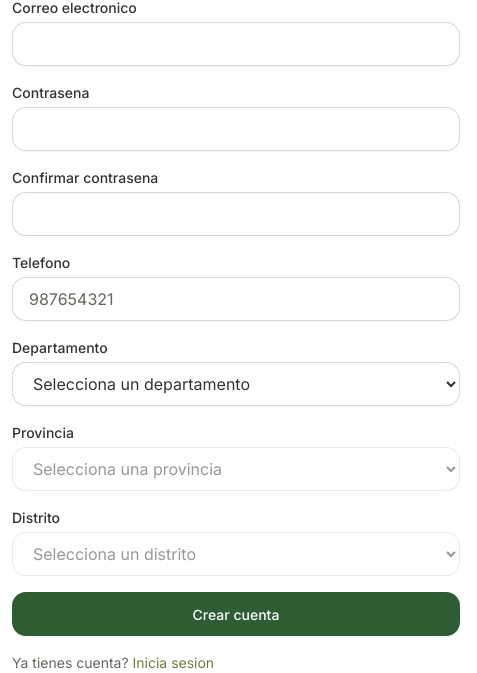
Test case: RegisterForm › muestra errores de validacion con el formulario vacio
The image size is (477, 673).
(page scrolled)
Step 1. Click the button "Crear cuenta" → point(236, 614), box top-left (12, 592), bottom-right (460, 636)
(page scrolled)
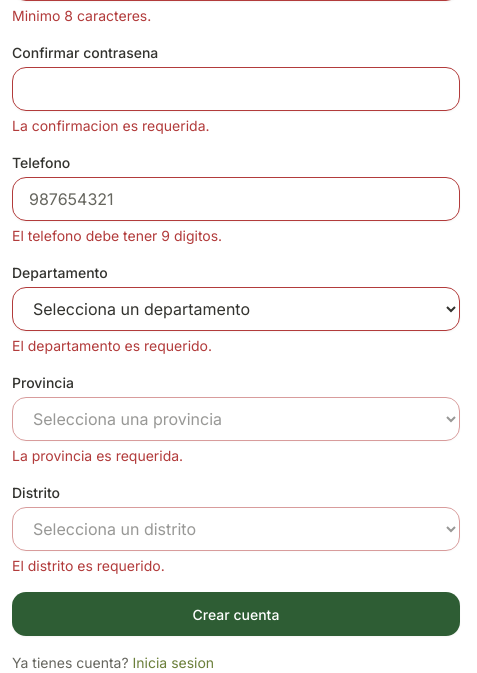
Result: the text "El telefono debe tener 9 digitos." is shown at top-left (12, 227), bottom-right (222, 244)
Result: the text "El departamento es requerido." is shown at top-left (12, 337), bottom-right (212, 354)
